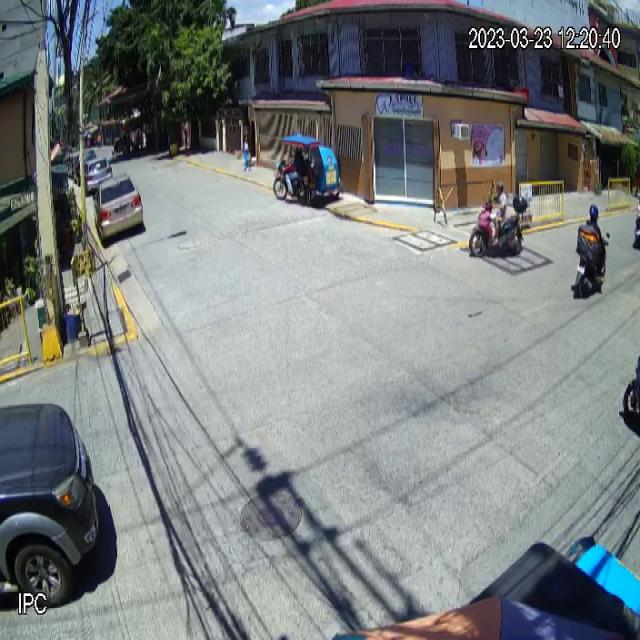Motorcycle: (469, 194, 528, 258)
Tricycle: (273, 133, 342, 205)
